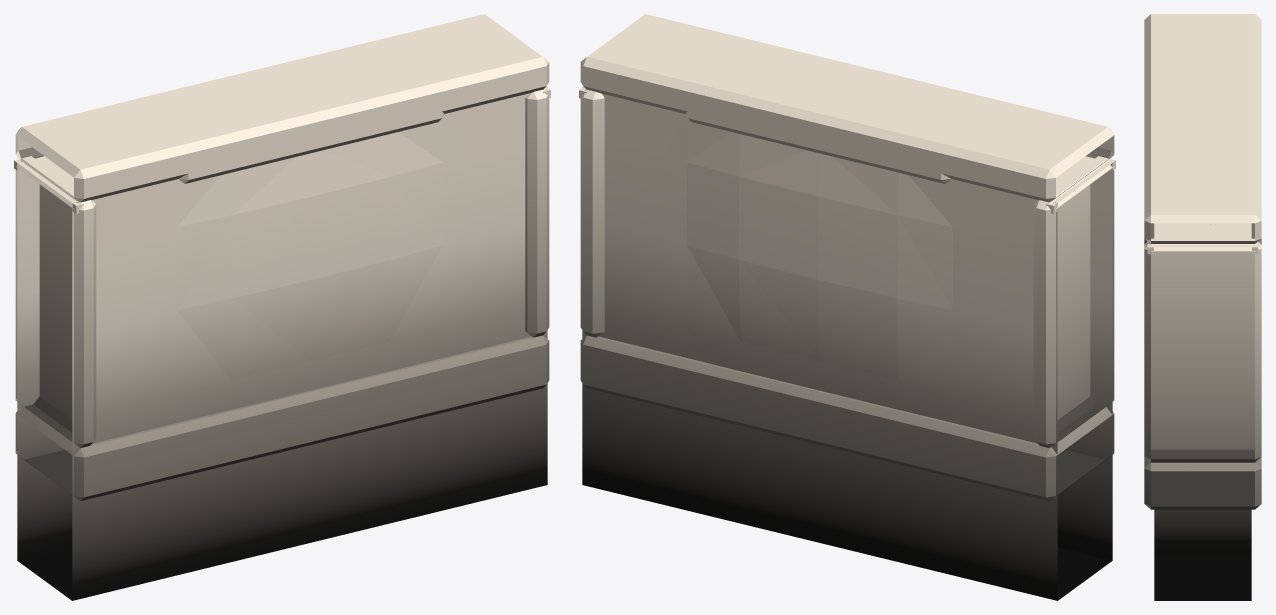
File: SM_VKI_Wall_Wattle_Window_150_Cut.fbx
3 renders of one model, left to right at view 1: azimuth 30°, elevation 25°; view 2: azimuth 150°, elevation 25°; view 3: azimuth 270°, elevation 25°, orthographic. The views are drawn at different scales.
Parts seen in each view (by area): view 1: SM_VKI_Wall_Wattle_Window_150_Cut.001; view 2: SM_VKI_Wall_Wattle_Window_150_Cut.001; view 3: SM_VKI_Wall_Wattle_Window_150_Cut.001.
Part boxes in pixels (x1=…): SM_VKI_Wall_Wattle_Window_150_Cut.001: x1=14, y1=14, x2=550, y2=600; SM_VKI_Wall_Wattle_Window_150_Cut.001: x1=579, y1=14, x2=1115, y2=600; SM_VKI_Wall_Wattle_Window_150_Cut.001: x1=1144, y1=14, x2=1261, y2=600.
Size of the model in its own units: 1.5 by 1.3 by 0.36.
